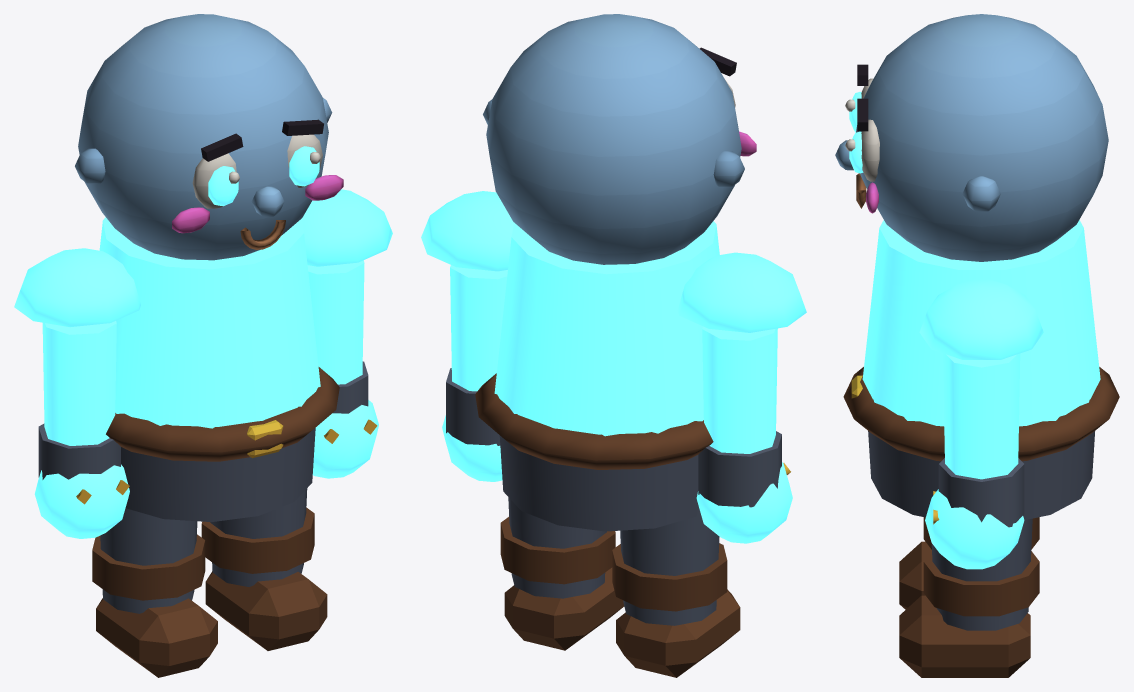
File: hero_quartz.glb
The picture shows the model from 3 angles, left to right: view 1: azimuth 30°, elevation 25°; view 2: azimuth 150°, elevation 25°; view 3: azimuth 270°, elevation 25°; orthographic projection.
Parts seen in each view (by area): view 1: body_t0_palette, body_t0_crystal, arml_t0_crystal, legl_t0_palette, armr_t0_crystal, legr_t0_palette, arml_t0_palette, armr_t0_palette; view 2: body_t0_palette, body_t0_crystal, arml_t0_crystal, legl_t0_palette, armr_t0_crystal, legr_t0_palette, arml_t0_palette, armr_t0_palette; view 3: body_t0_palette, body_t0_crystal, armr_t0_crystal, legr_t0_palette, armr_t0_palette, legl_t0_palette.
Boxes of the visible parts, box(x1,y1,x2,y2) form: body_t0_palette: box(75, 14, 343, 521); body_t0_crystal: box(99, 146, 320, 428); arml_t0_crystal: box(14, 248, 140, 538); legl_t0_palette: box(92, 508, 217, 677); armr_t0_crystal: box(301, 189, 392, 478); legr_t0_palette: box(201, 488, 327, 650); arml_t0_palette: box(38, 423, 129, 504); armr_t0_palette: box(324, 361, 377, 443); body_t0_palette: box(475, 14, 756, 531); body_t0_crystal: box(494, 221, 719, 436); arml_t0_crystal: box(677, 252, 806, 543); legl_t0_palette: box(612, 503, 740, 677); armr_t0_crystal: box(421, 191, 513, 481); legr_t0_palette: box(500, 497, 624, 650); arml_t0_palette: box(698, 431, 790, 507); armr_t0_palette: box(446, 368, 500, 445); body_t0_palette: box(835, 14, 1119, 519); body_t0_crystal: box(849, 92, 1100, 426); armr_t0_crystal: box(919, 279, 1043, 569); legr_t0_palette: box(899, 518, 1039, 677); armr_t0_palette: box(933, 458, 1024, 527); legl_t0_palette: box(899, 517, 1039, 609).
Bounding box in the file's own units: 0.3022 × 0.492 × 0.206.
